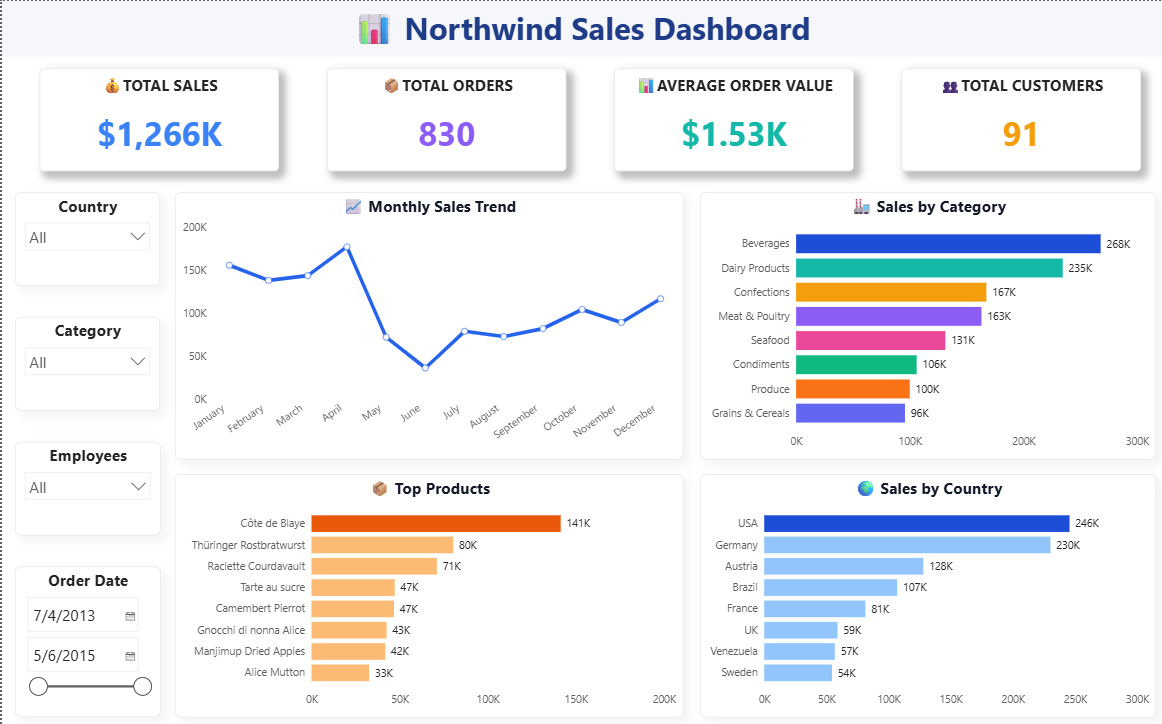

Layout of this report page (visuals, bound fields, positions):
{"tool":"powerbi","page":{"name":"Sales Overview ","canvas":[1600,1000],"ordinal":0},"visuals":[{"type":"textbox","box":[0,0,1599.8,77.1],"z":0},{"type":"card","title":"💰TOTAL SALES","fields":{"Values":["order_details.Total Sales"]},"box":[52,93.3,330,141.7],"z":1000},{"type":"card","title":"📦TOTAL ORDERS","fields":{"Values":["order_details.Total Orders"]},"box":[448.4,93.3,330,141.7],"z":2000},{"type":"card","title":"📊AVERAGE ORDER VALUE","fields":{"Values":["order_details.Avg Order Value"]},"box":[844.7,93.3,330,141.7],"z":3000},{"type":"card","title":"👥TOTAL CUSTOMERS","fields":{"Values":["customers.Total Customers"]},"box":[1241.1,93.3,330,141.7],"z":4000},{"type":"slicer","title":"Country ","fields":{"Values":["customers.Country"]},"box":[17.9,263.6,200,129.1],"z":5000},{"type":"slicer","title":"Category ","fields":{"Values":["categories.categoryName"]},"box":[17.9,435.8,200,129.1],"z":6000},{"type":"slicer","title":"Employees","fields":{"Values":["employees.employeeName"]},"box":[17.9,608,200.9,129.1],"z":7000},{"type":"slicer","title":"Order Date","fields":{"Values":["orders.orderDate"]},"box":[17.9,780.2,200.9,208],"z":8000},{"type":"lineChart","title":"📈 Monthly Sales Trend ","fields":{"Category":["orders.orderDate.Variation.Date Hierarchy.Month"],"Y":["order_details.Total Sales"]},"box":[238.5,263.6,701.2,369.5],"z":9000},{"type":"clusteredBarChart","title":"🌍 Sales by Country ","fields":{"Category":["customers.Country"],"Y":["order_details.Total Sales"]},"box":[963.1,652.8,629.5,335.4],"z":10000},{"type":"clusteredBarChart","title":"🏭 Sales by Category","fields":{"Category":["categories.categoryName"],"Y":["order_details.Total Sales"]},"box":[963.1,263.6,629.5,369.5],"z":11000},{"type":"clusteredBarChart","title":"📦 Top Products","fields":{"Category":["products.productName"],"Y":["order_details.Total Sales"]},"box":[238.5,652.8,701.2,335.4],"z":12000}]}

Visuals, with their boxes in screenshot pixels (x1, y1, x2, y2), scaled from the page's 1600x1000 canvas onto the 1162x724 screenshot:
textbox: [x1=0, y1=0, x2=1161, y2=56]
"💰TOTAL SALES" card: [x1=38, y1=68, x2=277, y2=170]
"📦TOTAL ORDERS" card: [x1=326, y1=68, x2=565, y2=170]
"📊AVERAGE ORDER VALUE" card: [x1=613, y1=68, x2=853, y2=170]
"👥TOTAL CUSTOMERS" card: [x1=901, y1=68, x2=1141, y2=170]
"Country " slicer: [x1=13, y1=191, x2=158, y2=284]
"Category " slicer: [x1=13, y1=316, x2=158, y2=409]
"Employees" slicer: [x1=13, y1=440, x2=159, y2=534]
"Order Date" slicer: [x1=13, y1=565, x2=159, y2=715]
"📈 Monthly Sales Trend " lineChart: [x1=173, y1=191, x2=682, y2=458]
"🌍 Sales by Country " clusteredBarChart: [x1=699, y1=473, x2=1157, y2=715]
"🏭 Sales by Category" clusteredBarChart: [x1=699, y1=191, x2=1157, y2=458]
"📦 Top Products" clusteredBarChart: [x1=173, y1=473, x2=682, y2=715]
